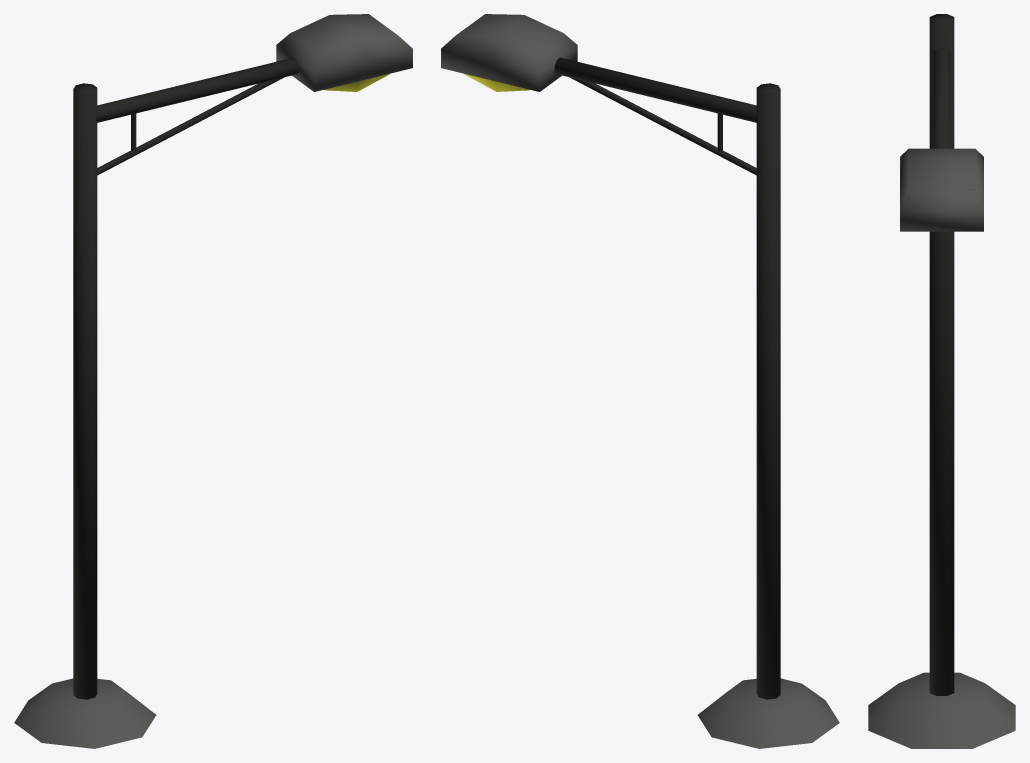
File: lamp_post.fbx
3 views of the same model, side by side, from view 1: azimuth 30°, elevation 25°; view 2: azimuth 150°, elevation 25°; view 3: azimuth 270°, elevation 25° (orthographic). The views are drawn at different scales.
Visible parts, largest first — view 1: lamp_post; view 2: lamp_post; view 3: lamp_post.
Boxes of the visible parts, x1=… form: lamp_post: x1=14, y1=14, x2=412, y2=748; lamp_post: x1=441, y1=14, x2=839, y2=748; lamp_post: x1=868, y1=14, x2=1015, y2=748.
Size of the model in its own units: 668 by 1100 by 210.
